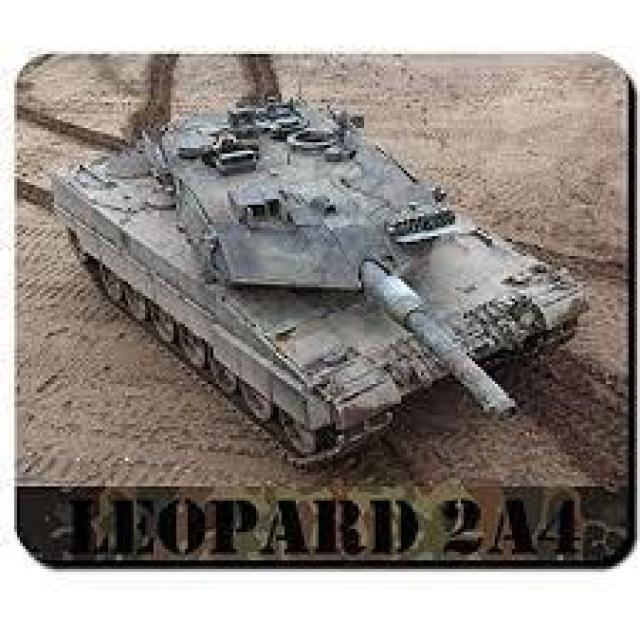Tanks: (64, 97, 567, 441)
